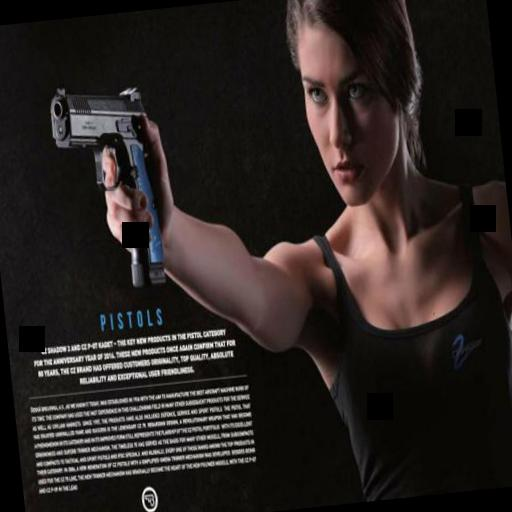Handgun: (34, 52, 183, 312)
